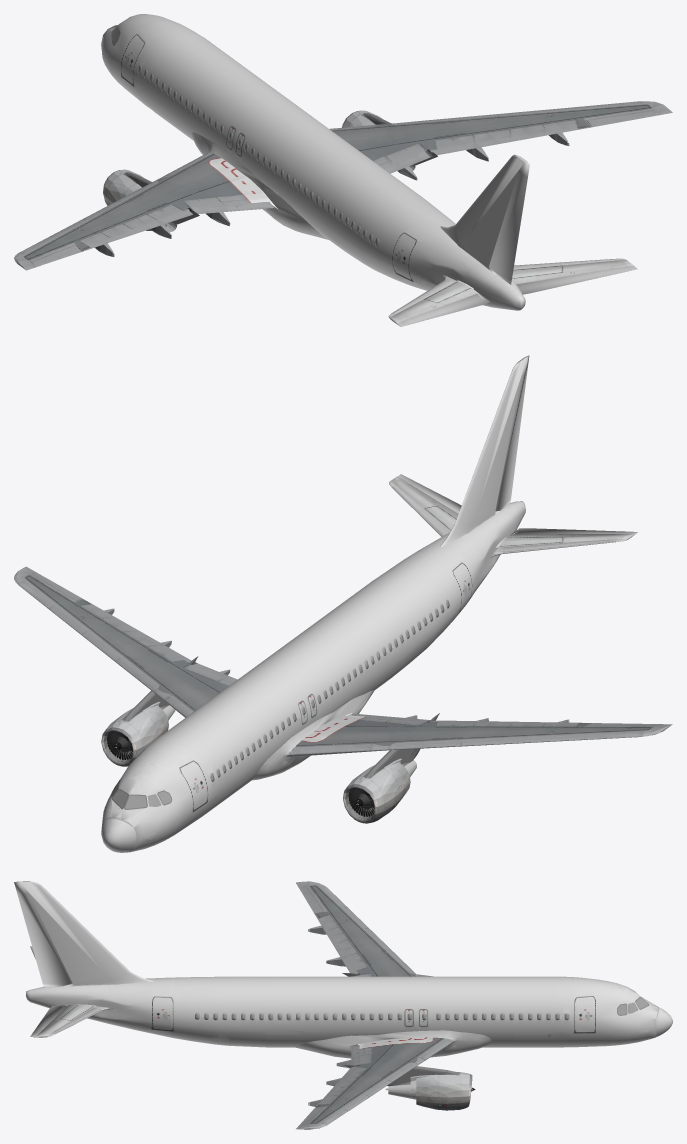
3 renders of one model, top to bottom at view 1: azimuth 30°, elevation 25°; view 2: azimuth 150°, elevation 25°; view 3: azimuth 270°, elevation 25°, orthographic. The views are drawn at different scales.
Visible parts, largest first — view 1: rootNode; view 2: rootNode, casing_001; view 3: rootNode.
Part boxes in pixels (bbox=[...]): rootNode: bbox=[14, 14, 672, 326]; rootNode: bbox=[14, 355, 672, 852]; casing_001: bbox=[103, 705, 416, 820]; rootNode: bbox=[14, 881, 672, 1129].
Size of the model in its own units: 33.91 by 11.63 by 38.27.
Materials: 4 (4 with a texture image).
